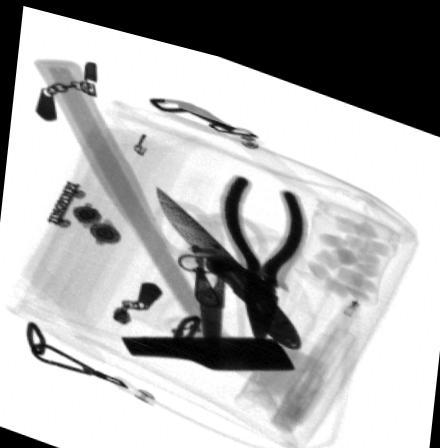Hammer: (29, 55, 296, 358)
Knife: (152, 174, 303, 336)
Pliers: (217, 159, 306, 334)
Scissors: (150, 185, 269, 358)
